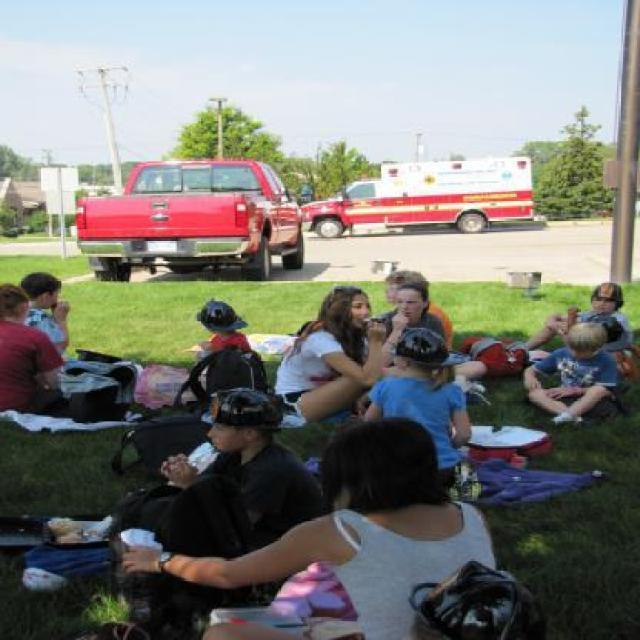emergency: (299, 154, 539, 238)
